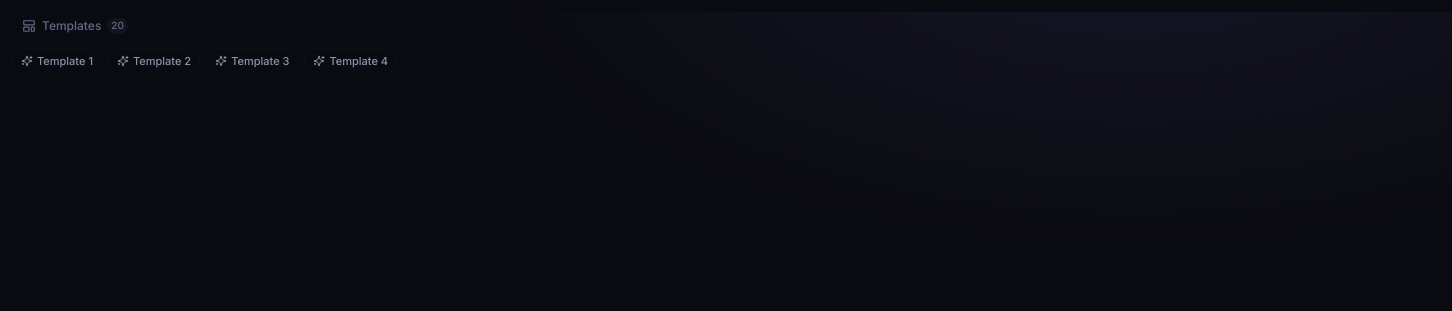
Scenario: TaskTemplatePicker (React Testing Library) › renders many templates in the scrollable list without crashing
Click the button "Templates 20".
click(75, 26)  # box top-left (12, 12), bottom-right (138, 40)
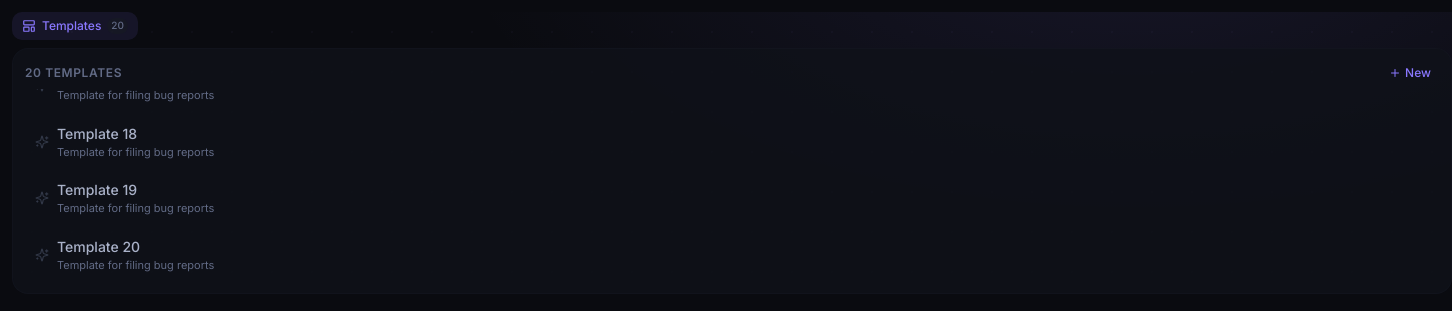
Expected: the text "20 templates" is shown, top-left (25, 65), bottom-right (122, 81)
Expected: the text "Template 20" is shown, top-left (57, 238), bottom-right (140, 254)
